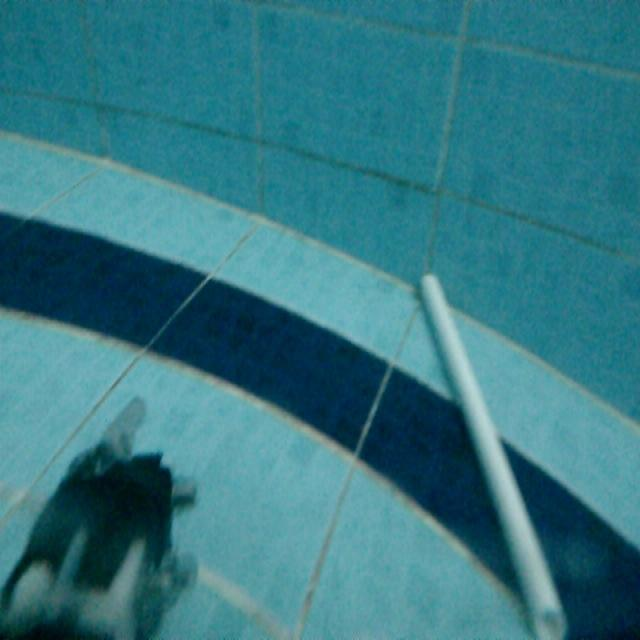Cube: (412, 265, 574, 639)
